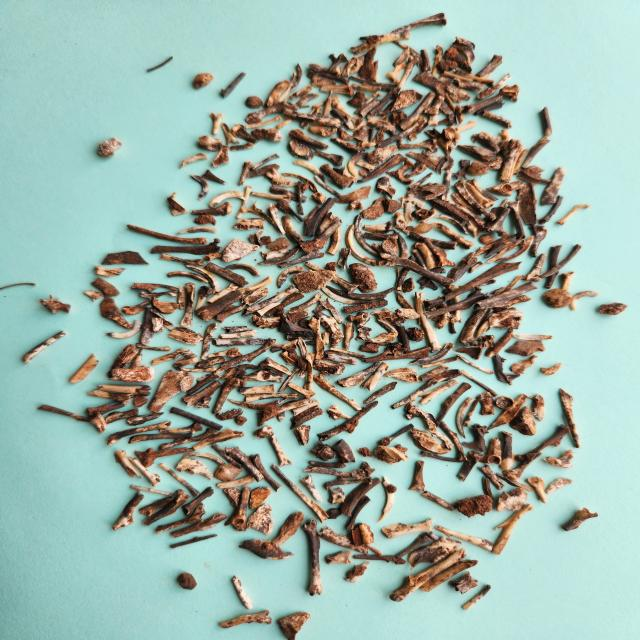fossil: (421, 260, 524, 313), (387, 547, 469, 603), (269, 463, 331, 524), (195, 337, 277, 382), (388, 368, 463, 410), (379, 251, 455, 289), (314, 400, 380, 442), (404, 402, 454, 450), (514, 422, 571, 464), (490, 503, 536, 555), (36, 402, 108, 435), (422, 284, 487, 320), (146, 368, 196, 414), (416, 558, 478, 594), (470, 281, 538, 312), (312, 372, 364, 412), (238, 284, 299, 318), (407, 535, 464, 571), (450, 179, 498, 221), (256, 394, 315, 428), (301, 516, 325, 598), (142, 488, 192, 526), (413, 290, 443, 353), (303, 261, 360, 294), (434, 381, 474, 428), (296, 217, 344, 255), (154, 501, 206, 536), (105, 419, 172, 446), (338, 476, 382, 517), (433, 524, 495, 553), (315, 525, 371, 557), (168, 511, 231, 539), (486, 392, 530, 432), (126, 224, 208, 245), (194, 289, 246, 322), (349, 30, 411, 57), (223, 445, 266, 483), (377, 116, 428, 148), (356, 153, 408, 184), (22, 330, 69, 364), (538, 243, 582, 279), (157, 462, 201, 498), (557, 387, 582, 450), (389, 12, 449, 38), (397, 91, 436, 131), (302, 196, 339, 237), (244, 99, 300, 126), (211, 376, 248, 416), (223, 484, 253, 533), (344, 224, 378, 267), (111, 489, 145, 532), (168, 406, 224, 432), (456, 303, 489, 347), (270, 510, 306, 550), (148, 237, 223, 256), (237, 537, 296, 561), (474, 307, 518, 339), (158, 427, 219, 450), (380, 516, 436, 541), (249, 452, 283, 493), (430, 221, 476, 251), (495, 138, 525, 183), (134, 446, 195, 468), (394, 530, 440, 559), (362, 345, 432, 364), (353, 214, 383, 258), (280, 108, 345, 128), (203, 261, 251, 288), (377, 89, 425, 116), (249, 309, 310, 330), (501, 451, 543, 481), (439, 420, 469, 462), (191, 428, 245, 451), (335, 361, 381, 388), (390, 38, 424, 74), (324, 285, 396, 302), (126, 455, 163, 488), (410, 427, 452, 456), (181, 263, 220, 294), (458, 368, 498, 398), (408, 341, 456, 366), (217, 609, 273, 630), (181, 379, 223, 407), (494, 234, 534, 263), (100, 296, 134, 330), (519, 134, 551, 170), (416, 379, 460, 405), (539, 166, 566, 208), (448, 200, 487, 229), (292, 269, 337, 294), (446, 250, 480, 283), (263, 290, 306, 316), (408, 230, 460, 251), (180, 486, 216, 516), (276, 610, 312, 640), (314, 311, 344, 347), (483, 234, 526, 259), (485, 238, 526, 264), (68, 352, 101, 384), (376, 475, 398, 523), (280, 171, 322, 196), (481, 203, 511, 238), (422, 238, 458, 267), (560, 506, 600, 532), (345, 493, 372, 531), (412, 70, 453, 95), (174, 457, 215, 482), (348, 262, 380, 294), (106, 364, 157, 384), (245, 502, 275, 536), (222, 237, 261, 263), (288, 128, 330, 152), (476, 72, 512, 100), (460, 93, 505, 115), (492, 353, 522, 386), (484, 309, 525, 333), (430, 199, 469, 224), (319, 163, 355, 190), (516, 182, 538, 226), (230, 574, 256, 611), (424, 126, 456, 156), (360, 380, 400, 404), (359, 361, 391, 391), (508, 404, 538, 436), (459, 583, 492, 612), (455, 450, 484, 483), (320, 286, 373, 304), (279, 213, 307, 247), (455, 494, 493, 519), (377, 421, 415, 446), (256, 245, 301, 266), (127, 431, 194, 445), (292, 159, 328, 185), (184, 371, 223, 395), (393, 253, 417, 292), (286, 291, 325, 315), (109, 343, 140, 373), (359, 44, 381, 86), (211, 441, 244, 469), (167, 532, 218, 550), (278, 249, 326, 268), (138, 494, 176, 518), (240, 200, 275, 226), (268, 432, 294, 467), (289, 404, 324, 430), (456, 396, 477, 439), (235, 366, 285, 384), (378, 247, 423, 267), (263, 79, 292, 110), (385, 157, 416, 186), (113, 448, 142, 479), (486, 327, 515, 358), (312, 296, 344, 324), (274, 70, 298, 107), (446, 570, 480, 596), (322, 474, 374, 491), (227, 396, 290, 410), (494, 472, 538, 492), (494, 487, 529, 512), (397, 54, 420, 92), (404, 149, 442, 172), (544, 244, 563, 290), (372, 443, 410, 466), (444, 46, 474, 75), (367, 88, 398, 116), (476, 463, 507, 491), (464, 182, 496, 209), (466, 177, 499, 203), (473, 235, 512, 257), (99, 250, 152, 266), (519, 253, 548, 282), (220, 70, 248, 100), (450, 36, 478, 66), (199, 321, 220, 361), (456, 354, 496, 375), (540, 287, 575, 311), (420, 489, 456, 512), (441, 288, 459, 334), (406, 182, 447, 202), (490, 294, 533, 313), (105, 318, 142, 340), (397, 136, 442, 154), (538, 194, 564, 225), (451, 192, 483, 217), (266, 185, 308, 204), (432, 214, 470, 235), (38, 293, 74, 315), (308, 316, 326, 360), (97, 383, 153, 397), (568, 289, 602, 312), (342, 298, 388, 315), (474, 54, 504, 80), (478, 436, 504, 466), (335, 184, 372, 205), (516, 165, 553, 186), (299, 473, 324, 504), (301, 464, 356, 478), (365, 114, 397, 138), (86, 389, 134, 405), (329, 136, 367, 156), (455, 144, 497, 162), (363, 145, 399, 166), (461, 426, 489, 453), (412, 242, 439, 270), (96, 135, 126, 160), (329, 438, 359, 463), (455, 337, 485, 362), (556, 204, 590, 226), (214, 302, 248, 324), (342, 560, 373, 584), (352, 553, 409, 566), (180, 282, 196, 328), (470, 131, 502, 154), (158, 252, 207, 267), (542, 448, 577, 469), (462, 393, 483, 428), (90, 277, 123, 299), (206, 282, 239, 304), (406, 459, 428, 492), (352, 92, 382, 116), (508, 200, 526, 240), (86, 400, 126, 418), (257, 356, 293, 376), (242, 391, 302, 403), (278, 317, 314, 337), (499, 429, 516, 471), (505, 339, 547, 356), (294, 334, 310, 378), (349, 522, 376, 548), (528, 224, 548, 259), (276, 366, 301, 394), (312, 357, 347, 377), (480, 109, 513, 130), (306, 70, 352, 85), (230, 123, 260, 146), (276, 200, 306, 223), (526, 476, 549, 506), (208, 190, 246, 208), (508, 354, 539, 376), (264, 168, 298, 188), (209, 336, 277, 346), (321, 349, 361, 366), (277, 265, 305, 289), (435, 302, 458, 331), (237, 276, 274, 294), (383, 366, 420, 384), (130, 281, 181, 294), (308, 439, 338, 461), (158, 420, 205, 434), (129, 484, 176, 498), (485, 181, 526, 197), (140, 306, 156, 347), (215, 473, 256, 489), (312, 148, 346, 167), (267, 202, 286, 236), (191, 201, 234, 216), (288, 138, 316, 161), (360, 197, 388, 220), (182, 452, 228, 466), (419, 449, 465, 463), (270, 339, 316, 353), (448, 284, 464, 324), (235, 185, 253, 220), (435, 104, 465, 125), (240, 286, 270, 307), (224, 262, 263, 278), (188, 174, 210, 202), (314, 176, 342, 198), (102, 408, 140, 424), (212, 463, 244, 482), (166, 270, 209, 284), (145, 54, 175, 74), (374, 175, 398, 200), (125, 411, 165, 426), (248, 485, 272, 510), (526, 392, 546, 422), (379, 308, 409, 328), (166, 192, 189, 218), (348, 152, 370, 179), (350, 460, 377, 482), (167, 326, 204, 342), (290, 398, 321, 417), (178, 152, 210, 170), (250, 153, 282, 171), (211, 142, 233, 168), (330, 108, 356, 130), (245, 115, 283, 130), (150, 296, 180, 315), (149, 308, 176, 329), (348, 76, 399, 87), (231, 215, 266, 231), (510, 148, 530, 176), (302, 352, 316, 392), (418, 266, 446, 286), (249, 190, 292, 203), (243, 163, 280, 178), (384, 61, 408, 84), (315, 212, 338, 236), (191, 70, 216, 92), (276, 400, 301, 422), (472, 100, 506, 116), (326, 222, 342, 256), (167, 329, 201, 345), (194, 354, 228, 370), (392, 228, 409, 260), (287, 381, 317, 399), (596, 301, 632, 316), (318, 84, 356, 98), (220, 122, 242, 146), (300, 106, 322, 130), (259, 246, 292, 262), (500, 273, 524, 295), (121, 299, 152, 316), (324, 549, 355, 566), (419, 365, 450, 382), (423, 297, 444, 322), (545, 476, 574, 494), (0, 281, 40, 294), (194, 286, 214, 312), (402, 160, 428, 180), (358, 331, 398, 344), (437, 70, 474, 84), (207, 346, 244, 360), (362, 220, 394, 236), (332, 166, 355, 188), (395, 290, 417, 313), (406, 172, 434, 190), (434, 152, 455, 176), (357, 99, 382, 119), (476, 391, 496, 416), (538, 105, 554, 136), (510, 331, 555, 342), (329, 346, 367, 359), (419, 356, 460, 368), (430, 43, 444, 78), (229, 363, 264, 377), (331, 99, 353, 121), (423, 94, 445, 116), (208, 112, 228, 136), (150, 351, 180, 367), (475, 306, 495, 330), (396, 324, 412, 354), (201, 169, 229, 186), (345, 311, 373, 328), (197, 134, 223, 152), (446, 85, 472, 103), (326, 402, 352, 420), (498, 83, 520, 104), (222, 487, 244, 508), (175, 571, 198, 591), (292, 424, 312, 447), (326, 53, 350, 72), (345, 90, 369, 109), (93, 265, 128, 278), (203, 251, 244, 262), (289, 62, 304, 92), (174, 226, 219, 236), (375, 318, 400, 336), (451, 159, 471, 181), (218, 328, 258, 339), (238, 384, 278, 395), (397, 196, 428, 210), (392, 44, 410, 68), (467, 160, 491, 178), (361, 82, 400, 93), (439, 170, 452, 203), (237, 161, 254, 186), (348, 125, 373, 142), (441, 124, 462, 144), (215, 407, 245, 421), (394, 306, 422, 321), (128, 346, 144, 372), (539, 361, 565, 377), (255, 301, 281, 317), (137, 290, 178, 300), (361, 232, 402, 242), (307, 459, 348, 469), (262, 127, 286, 144), (341, 321, 355, 350), (265, 236, 292, 251), (288, 85, 313, 101), (296, 91, 321, 107), (481, 156, 506, 172), (466, 218, 486, 238), (302, 204, 322, 224), (306, 63, 339, 75), (295, 180, 306, 216), (310, 95, 340, 108), (452, 120, 478, 135), (270, 338, 300, 351), (341, 56, 357, 80), (438, 100, 454, 124), (384, 341, 408, 357), (134, 342, 172, 352), (288, 352, 308, 371), (349, 54, 367, 75), (322, 89, 335, 118), (310, 74, 336, 88), (389, 109, 409, 127), (346, 115, 366, 133), (337, 246, 352, 270), (405, 326, 425, 344), (248, 228, 265, 249), (350, 83, 382, 94), (337, 126, 359, 142), (381, 198, 403, 214), (494, 395, 516, 411), (172, 356, 199, 369), (328, 486, 346, 505), (382, 238, 399, 258), (419, 150, 445, 163), (435, 60, 459, 74), (411, 249, 427, 270), (417, 208, 438, 224), (244, 95, 266, 110), (253, 425, 275, 440), (193, 213, 218, 226), (482, 475, 495, 500), (342, 163, 359, 182), (408, 125, 427, 142), (82, 289, 105, 303), (175, 347, 198, 361), (484, 285, 507, 299), (393, 211, 409, 231), (363, 542, 384, 557), (179, 365, 218, 373), (411, 222, 435, 235), (562, 270, 576, 292), (354, 326, 373, 342), (355, 160, 378, 173), (229, 141, 256, 152), (420, 49, 432, 73), (370, 308, 394, 320), (220, 367, 242, 380), (193, 395, 213, 409), (132, 393, 150, 408), (404, 200, 415, 224), (411, 208, 435, 219), (358, 342, 380, 354), (176, 285, 186, 311), (324, 507, 344, 520), (470, 422, 490, 435), (419, 278, 439, 291), (250, 127, 267, 142), (479, 334, 496, 349), (151, 316, 165, 334), (221, 325, 249, 334), (280, 348, 298, 362), (401, 276, 415, 294), (276, 117, 296, 129), (354, 446, 374, 458), (279, 350, 295, 365), (467, 261, 487, 273), (285, 100, 311, 109), (444, 91, 455, 112), (425, 113, 440, 128), (319, 127, 339, 138), (396, 224, 416, 235), (285, 334, 316, 341), (348, 200, 366, 212), (338, 60, 350, 77), (310, 192, 327, 204), (477, 234, 494, 246), (357, 140, 377, 150), (374, 128, 386, 144), (370, 242, 386, 254), (234, 414, 250, 426), (474, 278, 497, 286), (498, 129, 511, 143), (308, 124, 326, 134), (297, 317, 312, 329), (324, 260, 338, 272), (319, 332, 331, 346), (367, 126, 376, 144), (444, 157, 455, 171), (377, 258, 394, 267), (258, 235, 274, 244), (364, 341, 392, 346), (386, 483, 398, 494), (498, 197, 508, 210), (299, 182, 309, 194), (273, 308, 286, 316), (358, 168, 368, 177), (437, 268, 448, 274)
